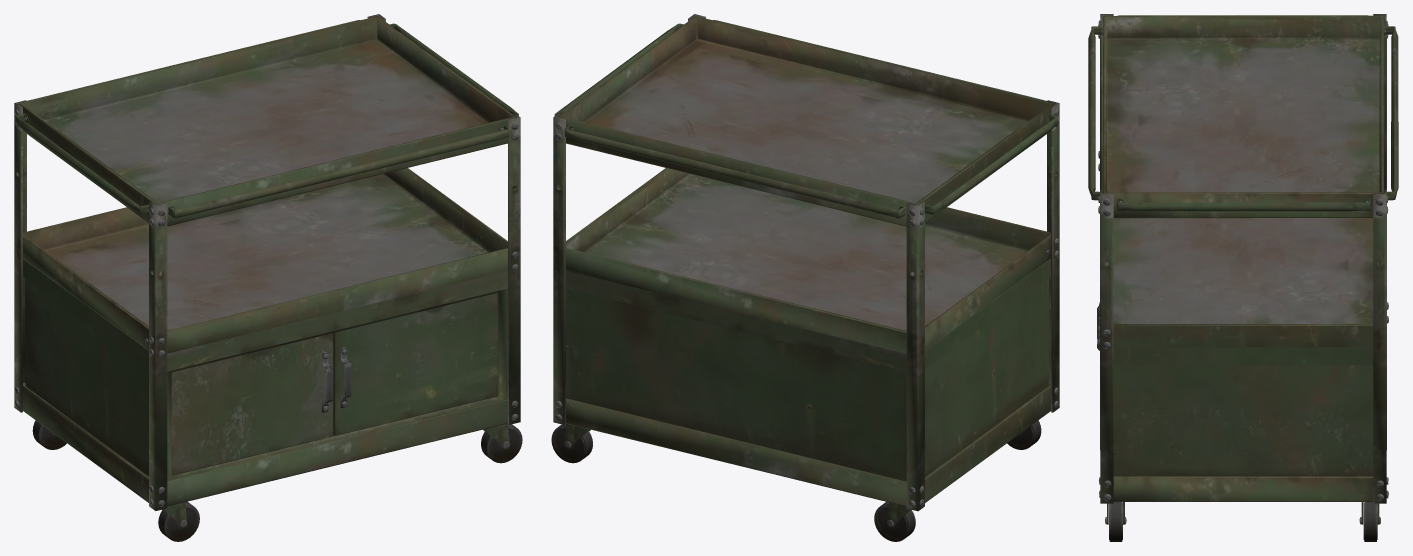
Rendered from industrial_storage_cart.glb.
3 renders of one model, left to right at view 1: azimuth 30°, elevation 25°; view 2: azimuth 150°, elevation 25°; view 3: azimuth 270°, elevation 25°, orthographic.
Visible parts, largest first — view 1: industrial_storage_cart; view 2: industrial_storage_cart; view 3: industrial_storage_cart.
Boxes of the visible parts, <box> form: industrial_storage_cart: <box>14,14,522,541</box>; industrial_storage_cart: <box>551,14,1059,541</box>; industrial_storage_cart: <box>1088,14,1398,541</box>.
Bounding box in the file's own units: 1.6 × 1.38 × 1.1.
1 material, 1 textured.
